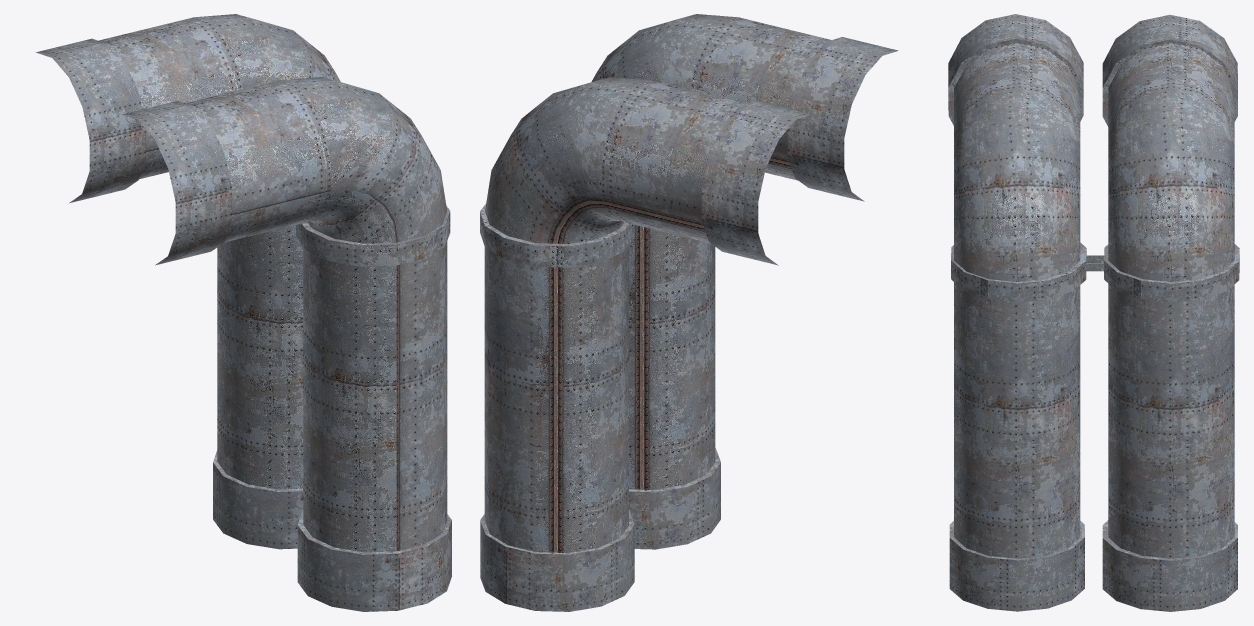
The model's file is pipecluster32d_001a.glb.
3 renders of one model, left to right at view 1: azimuth 30°, elevation 25°; view 2: azimuth 150°, elevation 25°; view 3: azimuth 270°, elevation 25°, orthographic. The views are drawn at different scales.
Visible parts, largest first — view 1: 0_pipeset_metal02; view 2: 0_pipeset_metal02; view 3: 0_pipeset_metal02.
Part boxes in pixels (x1=…): 0_pipeset_metal02: x1=36, y1=14, x2=451, y2=611; 0_pipeset_metal02: x1=480, y1=14, x2=898, y2=611; 0_pipeset_metal02: x1=948, y1=14, x2=1239, y2=611.
Bounding box in the file's own units: 1.98 × 3.21 × 1.83.
1 material, 1 textured.
